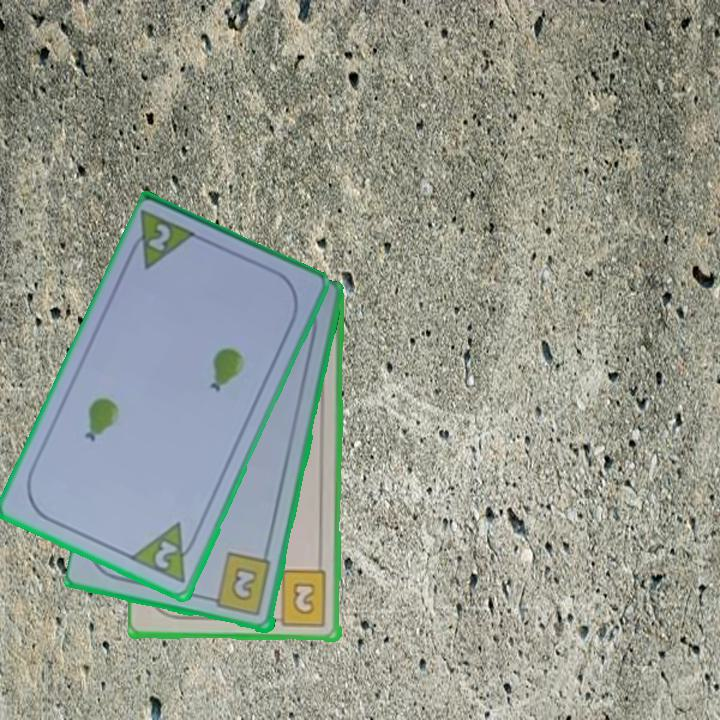2b: (204, 550, 274, 619), (268, 568, 330, 630)
2p: (127, 519, 203, 587), (144, 220, 174, 255)
